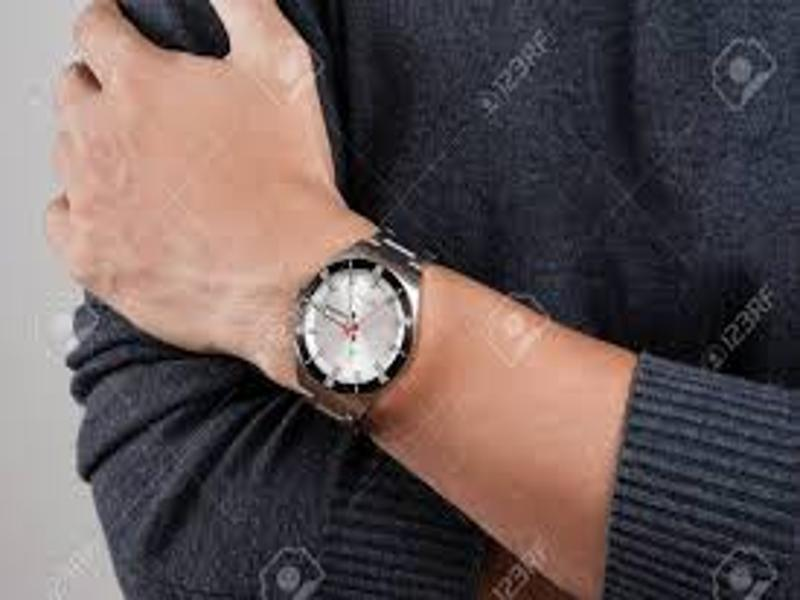watch: (289, 235, 441, 428)
